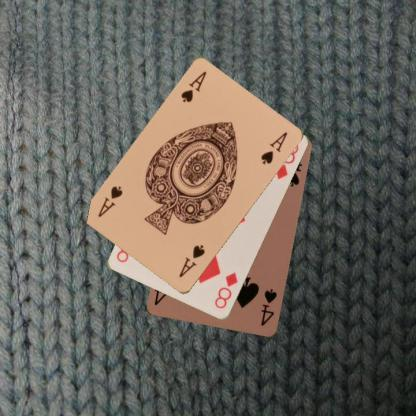4s: (258, 286, 278, 328)
8d: (212, 270, 239, 311)
As: (176, 242, 207, 279), (178, 69, 208, 104)
